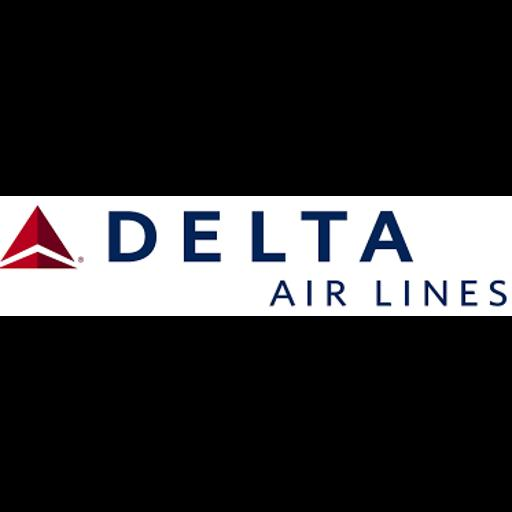Delta Air Lines: (0, 196, 512, 316)
